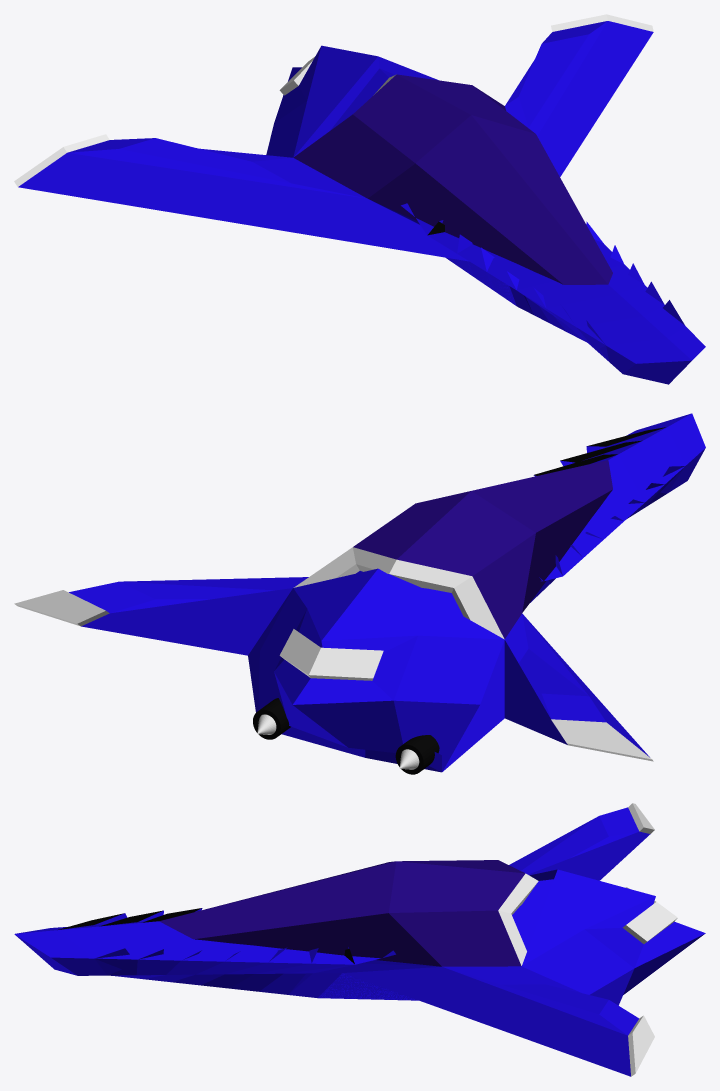
File: PlayerShip2.fbx
The picture shows the model from 3 angles, top to bottom: view 1: azimuth 30°, elevation 25°; view 2: azimuth 150°, elevation 25°; view 3: azimuth 270°, elevation 25°; orthographic projection. The views are drawn at different scales.
Parts seen in each view (by area): view 1: thingys, Glas, Cube.002; view 2: thingys, Glas, light, Cube.002, backlight2, thingys.001, backlight.001, Cone.001; view 3: thingys, Glas, Cube.002, light, backlight2, backlight.001.
Part boxes in pixels (left/top/right/bottom): thingys: left=18, top=21, right=705, bottom=384; Glas: left=293, top=74, right=612, bottom=284; Cube.002: left=14, top=14, right=653, bottom=186; thingys: left=69, top=413, right=705, bottom=772; Glas: left=353, top=460, right=612, bottom=638; light: left=293, top=547, right=504, bottom=639; Cube.002: left=14, top=590, right=653, bottom=761; backlight2: left=279, top=629, right=383, bottom=680; thingys.001: left=253, top=698, right=439, bottom=774; backlight.001: left=534, top=427, right=665, bottom=475; Cone.001: left=257, top=714, right=419, bottom=769; thingys: left=14, top=807, right=705, bottom=1076; Glas: left=159, top=860, right=525, bottom=966; Cube.002: left=628, top=803, right=654, bottom=1076; light: left=498, top=873, right=538, bottom=965; backlight2: left=622, top=887, right=677, bottom=943; backlight.001: left=58, top=908, right=354, bottom=963.
Bounding box in the file's own units: 1130 × 321 × 1225.
